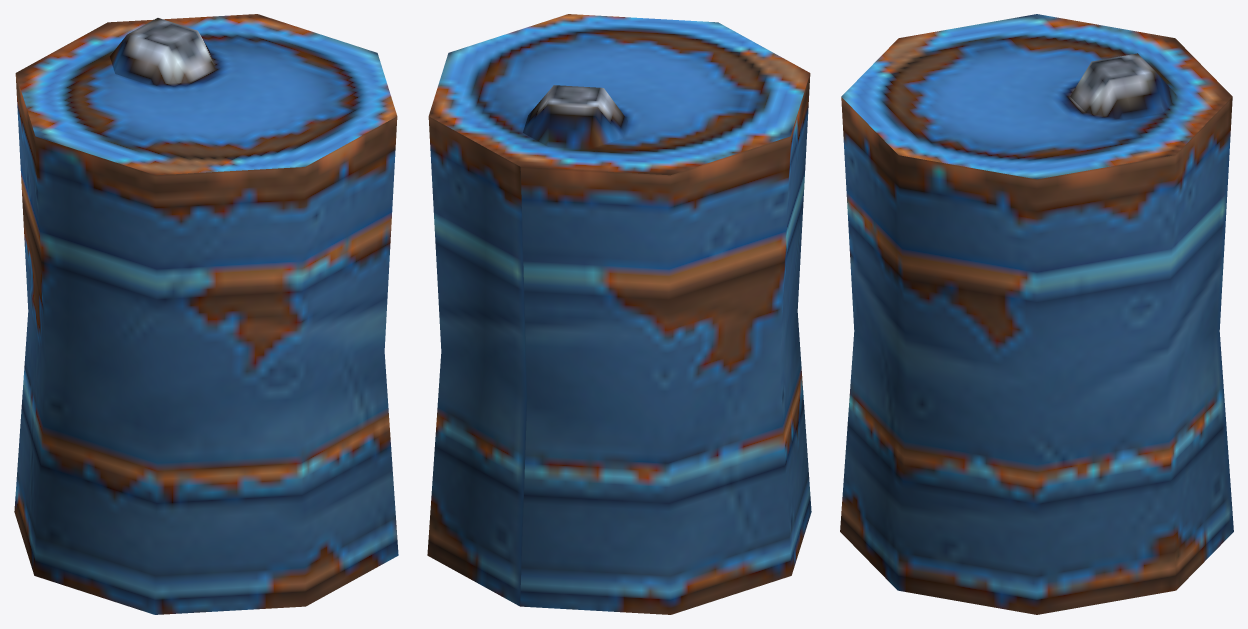
The model's file is Item_Barrel.FBX.
3 views of the same model, side by side, from view 1: azimuth 30°, elevation 25°; view 2: azimuth 150°, elevation 25°; view 3: azimuth 270°, elevation 25° (orthographic).
Visible parts, largest first — view 1: Item_Barrel; view 2: Item_Barrel; view 3: Item_Barrel.
Part boxes in pixels (x1,y1,x2,y2): Item_Barrel: (14, 14, 398, 614); Item_Barrel: (427, 14, 811, 614); Item_Barrel: (840, 14, 1233, 614).
Size of the model in its own units: 89.84 by 117 by 89.84.
